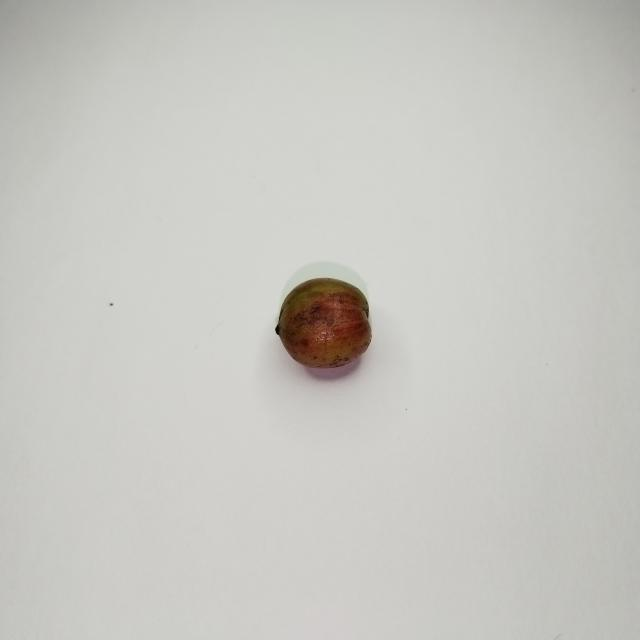Sano: (275, 277, 371, 372)
